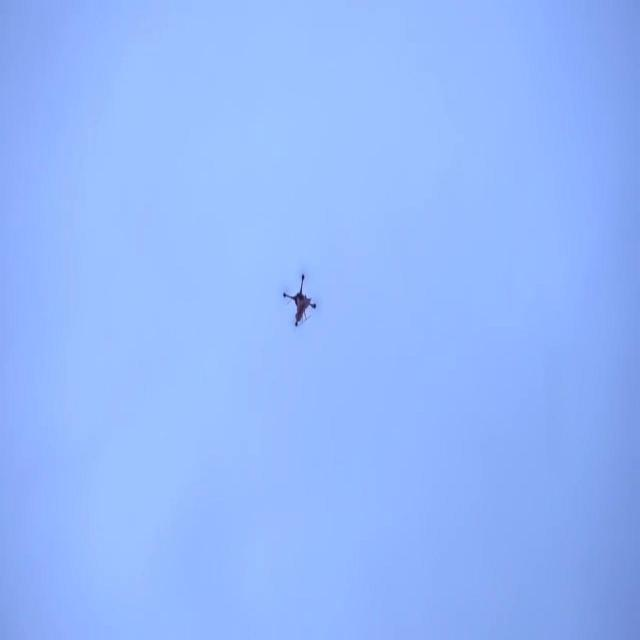UAV: (283, 275, 316, 326)
